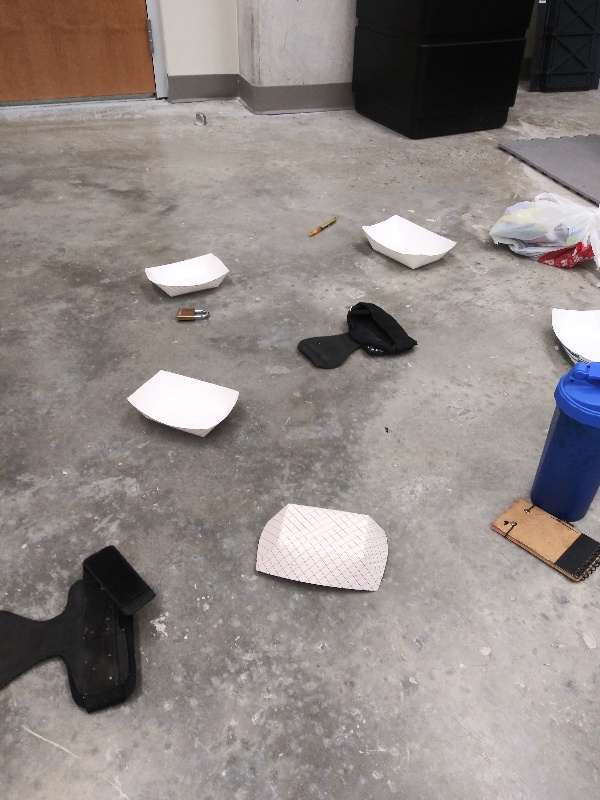plate: (252, 499, 393, 600), (119, 367, 242, 439), (357, 211, 459, 273), (140, 250, 233, 301), (543, 301, 600, 367)
